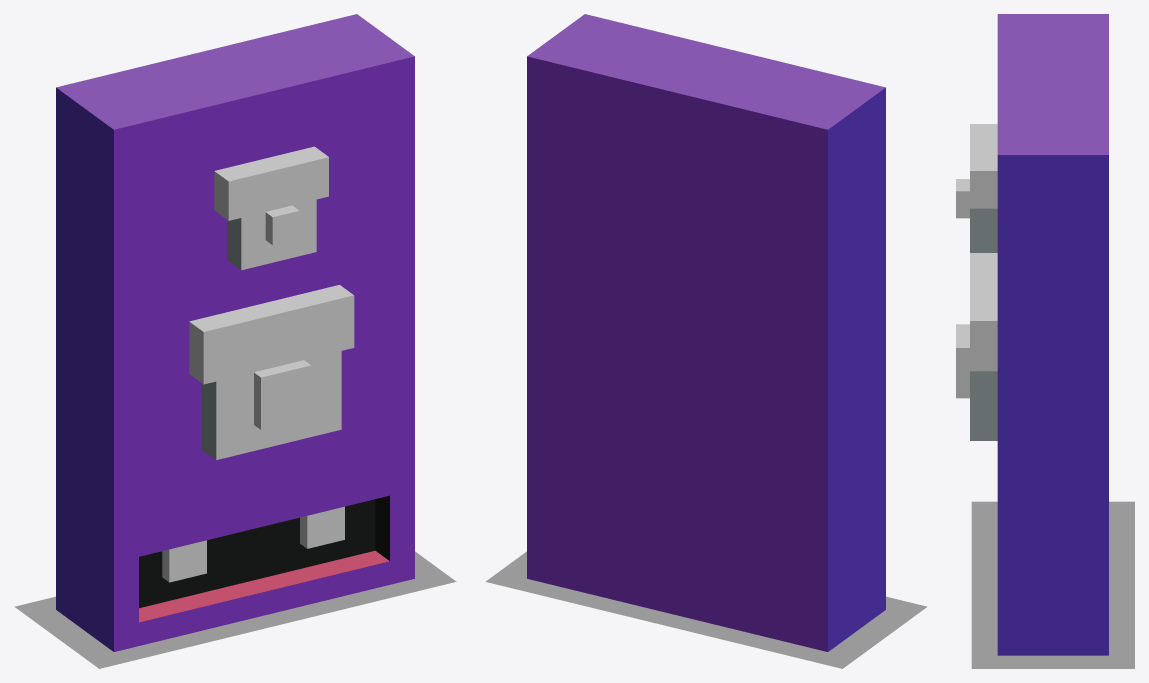
Rendered from EN_TallBit_Purple.fbx.
3 views of the same model, side by side, from view 1: azimuth 30°, elevation 25°; view 2: azimuth 150°, elevation 25°; view 3: azimuth 270°, elevation 25° (orthographic). The views are drawn at different scales.
Visible parts, largest first — view 1: Body, Eyebrow, Mouth, Eye, Shadow, Eyebrow_SM, Eye_SM, Pupil, Pupil_SM; view 2: Body, Shadow; view 3: Body, Shadow, Eyebrow, Eyebrow_SM, Eye, Eye_SM, Pupil, Pupil_SM.
Boxes of the visible parts, x1=… form: Body: x1=56, y1=14, x2=414, y2=651; Eyebrow: x1=189, y1=285, x2=354, y2=384; Mouth: x1=139, y1=550, x2=389, y2=645; Eye: x1=201, y1=351, x2=341, y2=460; Shadow: x1=14, y1=551, x2=456, y2=668; Eyebrow_SM: x1=214, y1=146, x2=328, y2=220; Eye_SM: x1=227, y1=199, x2=316, y2=270; Pupil: x1=254, y1=360, x2=311, y2=429; Pupil_SM: x1=265, y1=205, x2=299, y2=245; Body: x1=527, y1=14, x2=885, y2=651; Shadow: x1=485, y1=551, x2=927, y2=668; Body: x1=997, y1=14, x2=1108, y2=655; Shadow: x1=971, y1=501, x2=1134, y2=668; Eyebrow: x1=970, y1=253, x2=997, y2=371; Eyebrow_SM: x1=970, y1=124, x2=997, y2=208; Eye: x1=970, y1=371, x2=997, y2=440; Eye_SM: x1=970, y1=208, x2=997, y2=252; Pupil: x1=956, y1=324, x2=969, y2=398; Pupil_SM: x1=956, y1=179, x2=969, y2=218.
Bounding box in the file's own units: 71.23 × 100 × 32.18.
